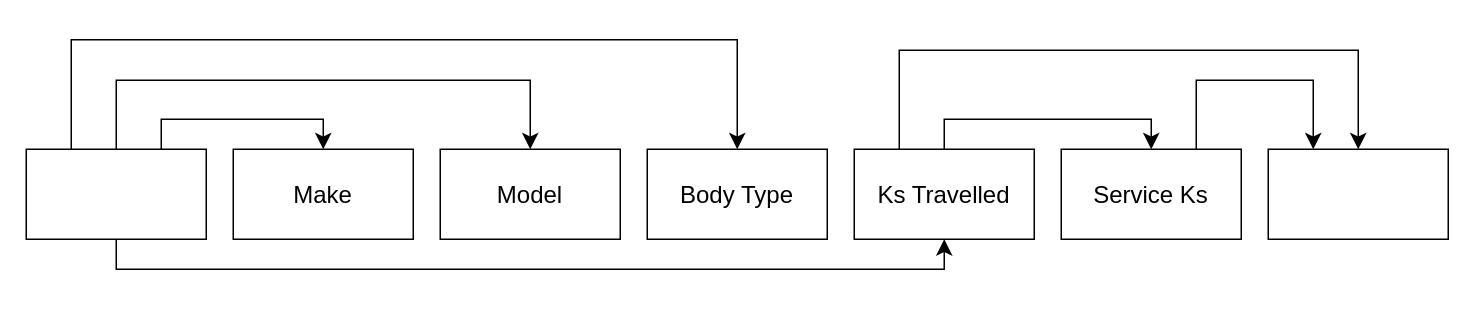
Some shapes in this 1475 by 311 pixel diagram are drawn without their labels. Here are the shapes that lost their labels. From the top down, the centre of each, then its label:
pixel 115 193: CarNo
pixel 1357 193: Available
